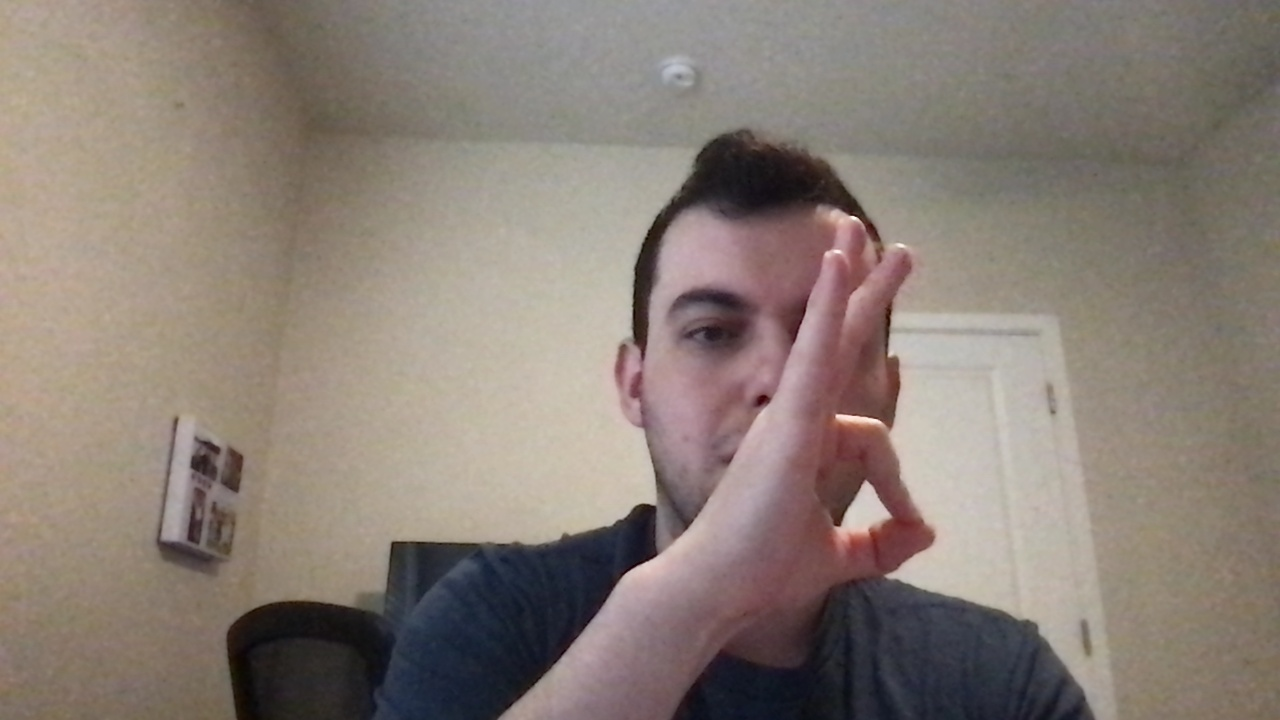f: (735, 202, 962, 646)
